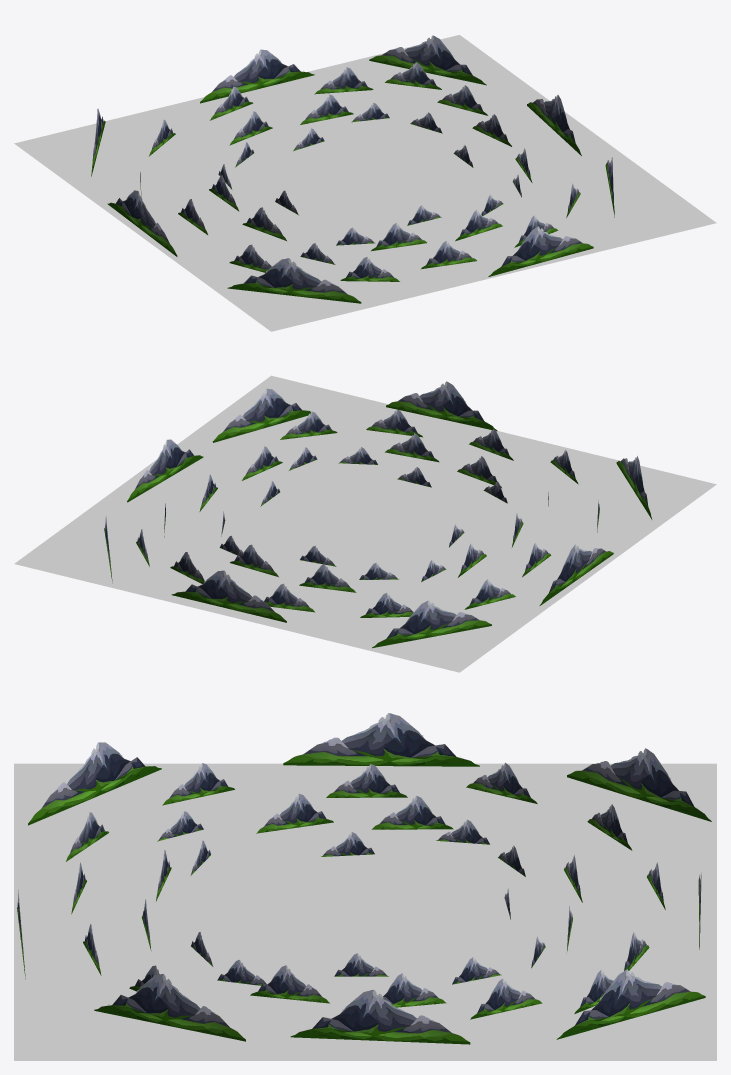
Rendered from base para pistas 1.fbx.
3 renders of one model, top to bottom at view 1: azimuth 30°, elevation 25°; view 2: azimuth 150°, elevation 25°; view 3: azimuth 270°, elevation 25°, orthographic. The views are drawn at different scales.
Visible parts, largest first — view 1: suelo_2, montania__back_5, montania__back_1, montania__back_2, montania__back_6, montania__back_4, montania__back, montania_26, montania_21, montania_31, montania_11, montania_25 (+8 smaller); view 2: suelo_2, montania__back_3, montania__back_6, montania__back_2, montania__back_2_2, montania__back, montania__back_4, montania__back_5, montania_17, montania_23, montania_20, montania_24 (+7 smaller); view 3: suelo_2, montania__back_4, montania__back, montania__back_2_2, montania__back_3, montania__back_1, montania__back_5, montania_14, montania_28, montania, montania_12, montania_27 (+12 smaller).
Part boxes in pixels (x1=…): suelo_2: x1=14, y1=35, x2=716, y2=331; montania__back_5: x1=227, y1=258, x2=361, y2=303; montania__back_1: x1=369, y1=35, x2=486, y2=85; montania__back_2: x1=200, y1=49, x2=314, y2=103; montania__back_6: x1=488, y1=226, x2=593, y2=276; montania__back_4: x1=107, y1=190, x2=177, y2=256; montania__back: x1=527, y1=95, x2=581, y2=155; montania_26: x1=340, y1=256, x2=399, y2=281; montania_21: x1=314, y1=67, x2=373, y2=94; montania_31: x1=385, y1=62, x2=441, y2=89; montania_11: x1=371, y1=223, x2=426, y2=251; montania_25: x1=421, y1=241, x2=476, y2=269; suelo_2: x1=14, y1=375, x2=716, y2=672; montania__back_3: x1=372, y1=600, x2=491, y2=648; montania__back_6: x1=386, y1=381, x2=497, y2=431; montania__back_2: x1=171, y1=570, x2=286, y2=622; montania__back_2_2: x1=212, y1=388, x2=310, y2=442; montania__back: x1=127, y1=439, x2=203, y2=502; montania__back_4: x1=539, y1=544, x2=613, y2=605; montania__back_5: x1=616, y1=456, x2=652, y2=519; montania_17: x1=299, y1=564, x2=356, y2=592; montania_23: x1=280, y1=411, x2=337, y2=439; montania_20: x1=360, y1=593, x2=413, y2=617; montania_24: x1=366, y1=409, x2=422, y2=437; suelo_2: x1=14, y1=763, x2=716, y2=1060; montania__back_4: x1=283, y1=713, x2=479, y2=766; montania__back: x1=290, y1=989, x2=470, y2=1044; montania__back_2_2: x1=94, y1=974, x2=245, y2=1041; montania__back_3: x1=567, y1=748, x2=711, y2=821; montania__back_1: x1=556, y1=969, x2=705, y2=1039; montania__back_5: x1=28, y1=742, x2=161, y2=825; montania_14: x1=372, y1=795, x2=453, y2=829; montania_28: x1=326, y1=764, x2=407, y2=797; montania: x1=250, y1=965, x2=329, y2=1003; montania_12: x1=256, y1=793, x2=333, y2=833; montania_27: x1=162, y1=763, x2=234, y2=805.
Size of the model in its own units: 31006 by 3387 by 31006.
